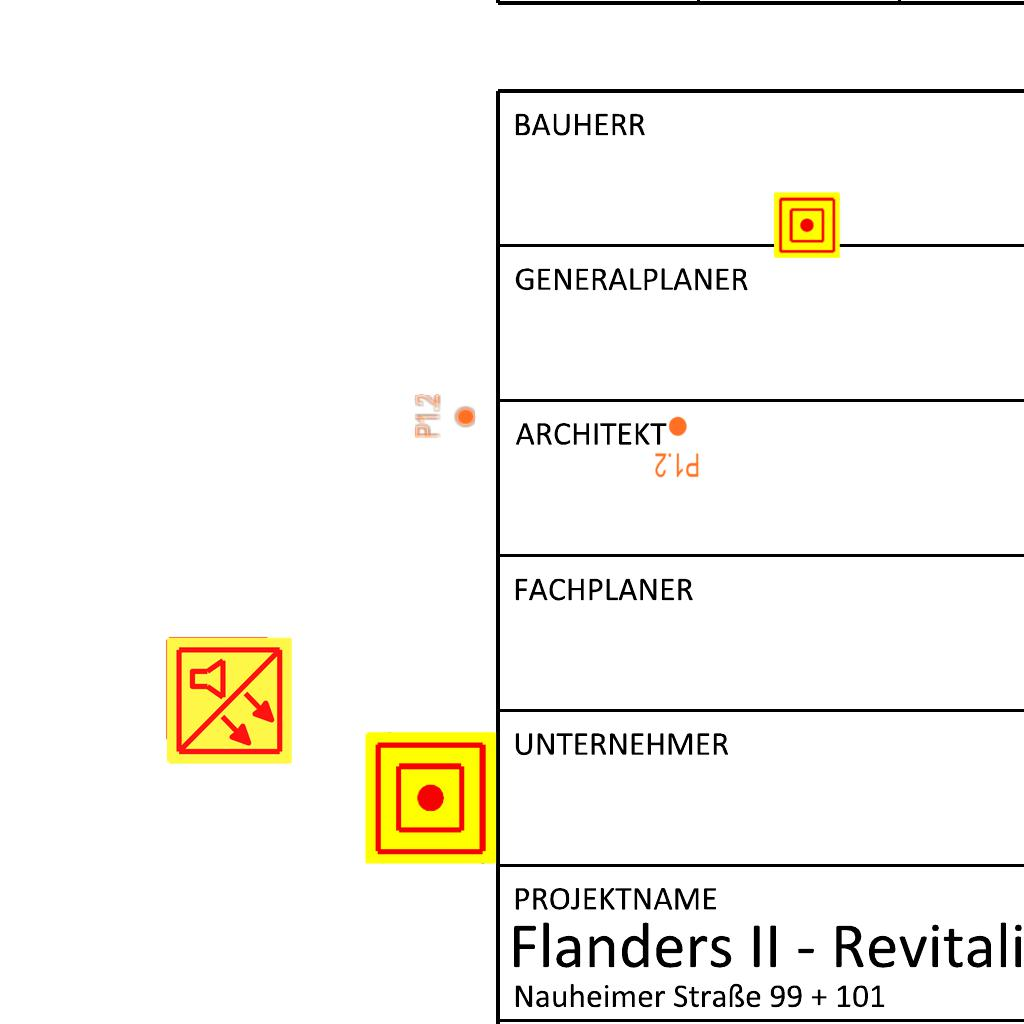Downlight_LED_Einbauleuchten_Flur: (413, 393, 477, 439), (654, 415, 700, 479)
NAM-Nichtautomatischer_Melder: (365, 732, 497, 864), (774, 192, 840, 258)
OKW_Multisensormelder_(Kombination_optischer_Rauch-Kahlenmonoxid_Waerme-Melder): (163, 635, 295, 767)
